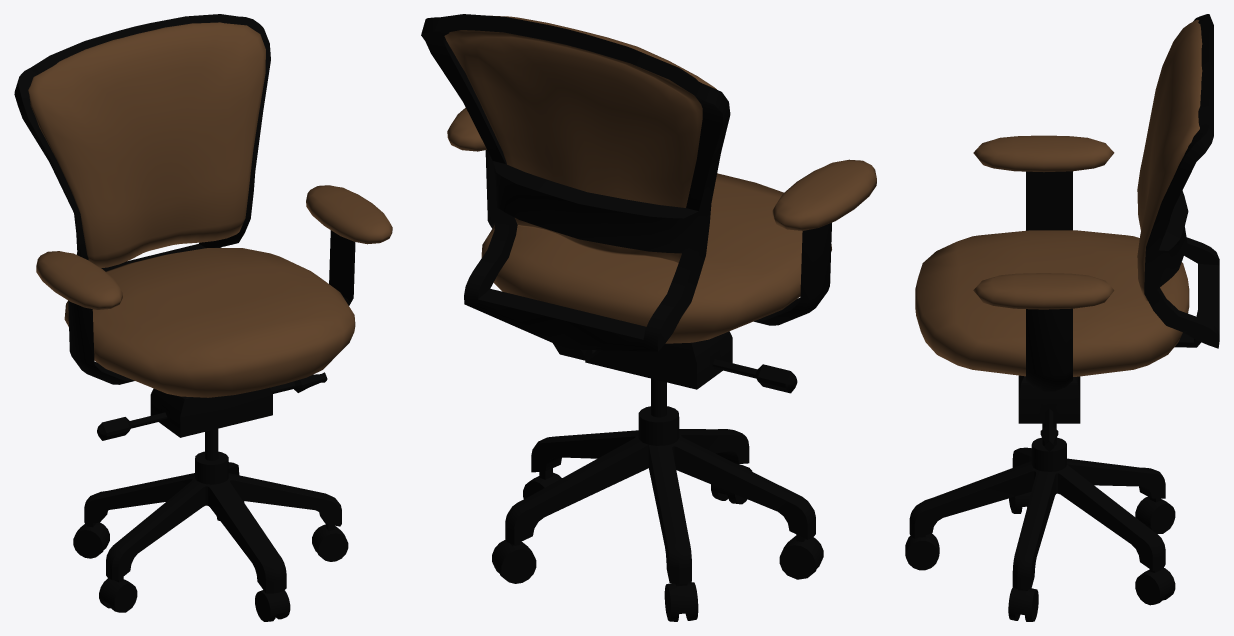
Rendered from Chair 1.fbx.
3 views of the same model, side by side, from view 1: azimuth 30°, elevation 25°; view 2: azimuth 150°, elevation 25°; view 3: azimuth 270°, elevation 25° (orthographic). The views are drawn at different scales.
Visible parts, largest first — view 1: Cushions, Frame; view 2: Frame, Cushions; view 3: Cushions, Frame.
Part boxes in pixels (x1=…): Cushions: x1=28, y1=22, x2=392, y2=397; Frame: x1=14, y1=14, x2=355, y2=621; Frame: x1=421, y1=14, x2=831, y2=621; Cushions: x1=444, y1=15, x2=876, y2=343; Cushions: x1=915, y1=19, x2=1202, y2=376; Frame: x1=905, y1=14, x2=1219, y2=621.
Bounding box in the file's own units: 166 × 243 × 135.
